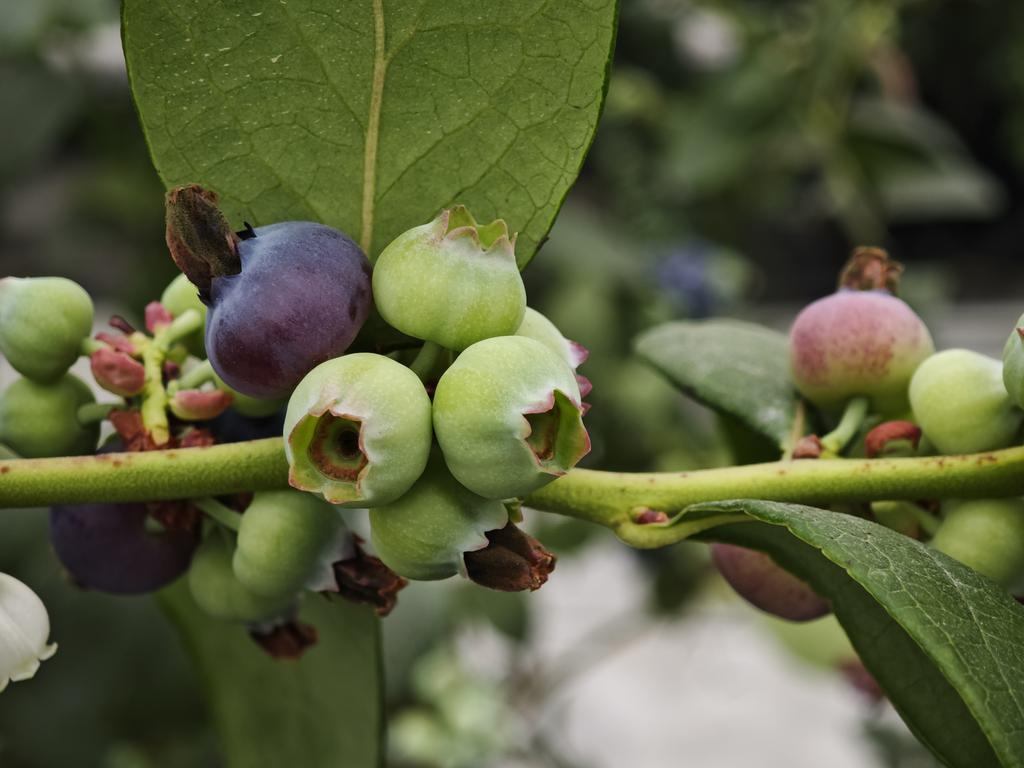RipeBlueBerry: (198, 218, 372, 390)
Semi-RipeBlueBerry: (784, 271, 939, 407)
UnripeBlueBerry: (435, 335, 593, 502), (280, 349, 432, 511), (372, 210, 532, 346)
